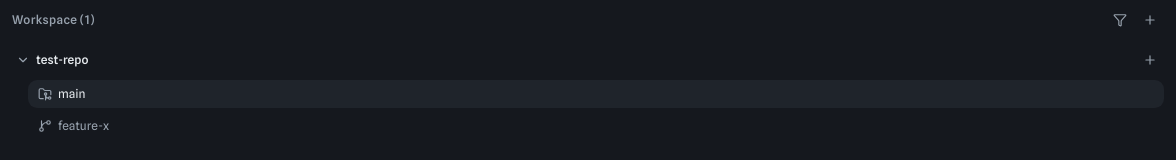
RepositoryPanel › labels the inline branch rename input
Expected: the text "feature-x" is shown, [58,118,109,133]
Double-click the button "feature-x": (74, 126) [38,118,109,133]
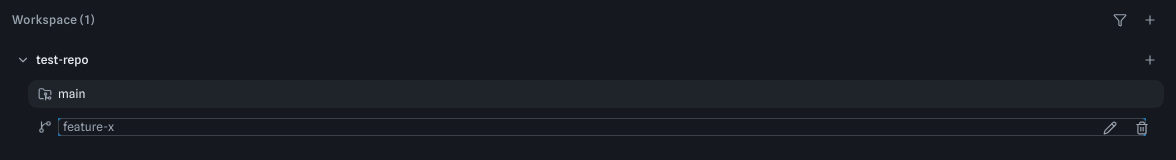
Now the field named "Rename branch feature-x" is shown, box [58,118,1146,136]
